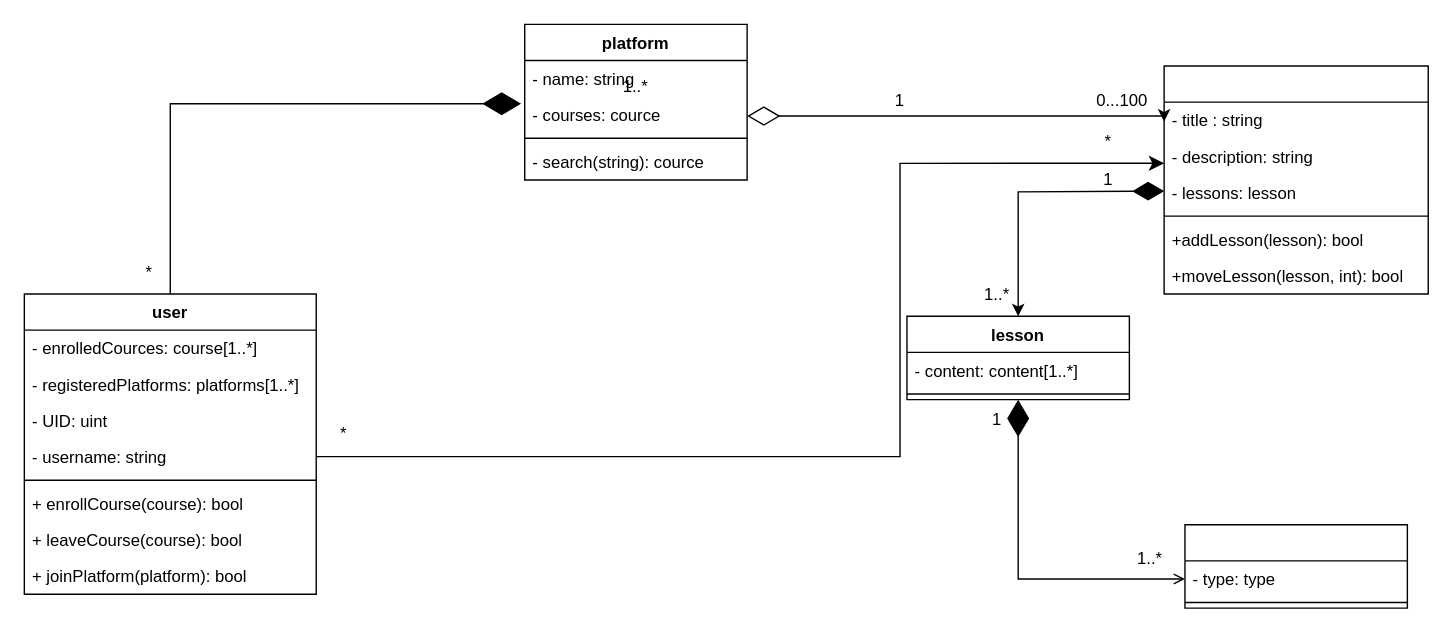
The diagram is 1453 pixels wide and 639 high, and some of its shapes have lost their labels. The shapes that lost their labels are listed below. From the top down, each one's box as (x1, y1, x2, y2) in pixels, then its label:
(1163, 65, 1428, 294): course
(1184, 523, 1407, 608): content
